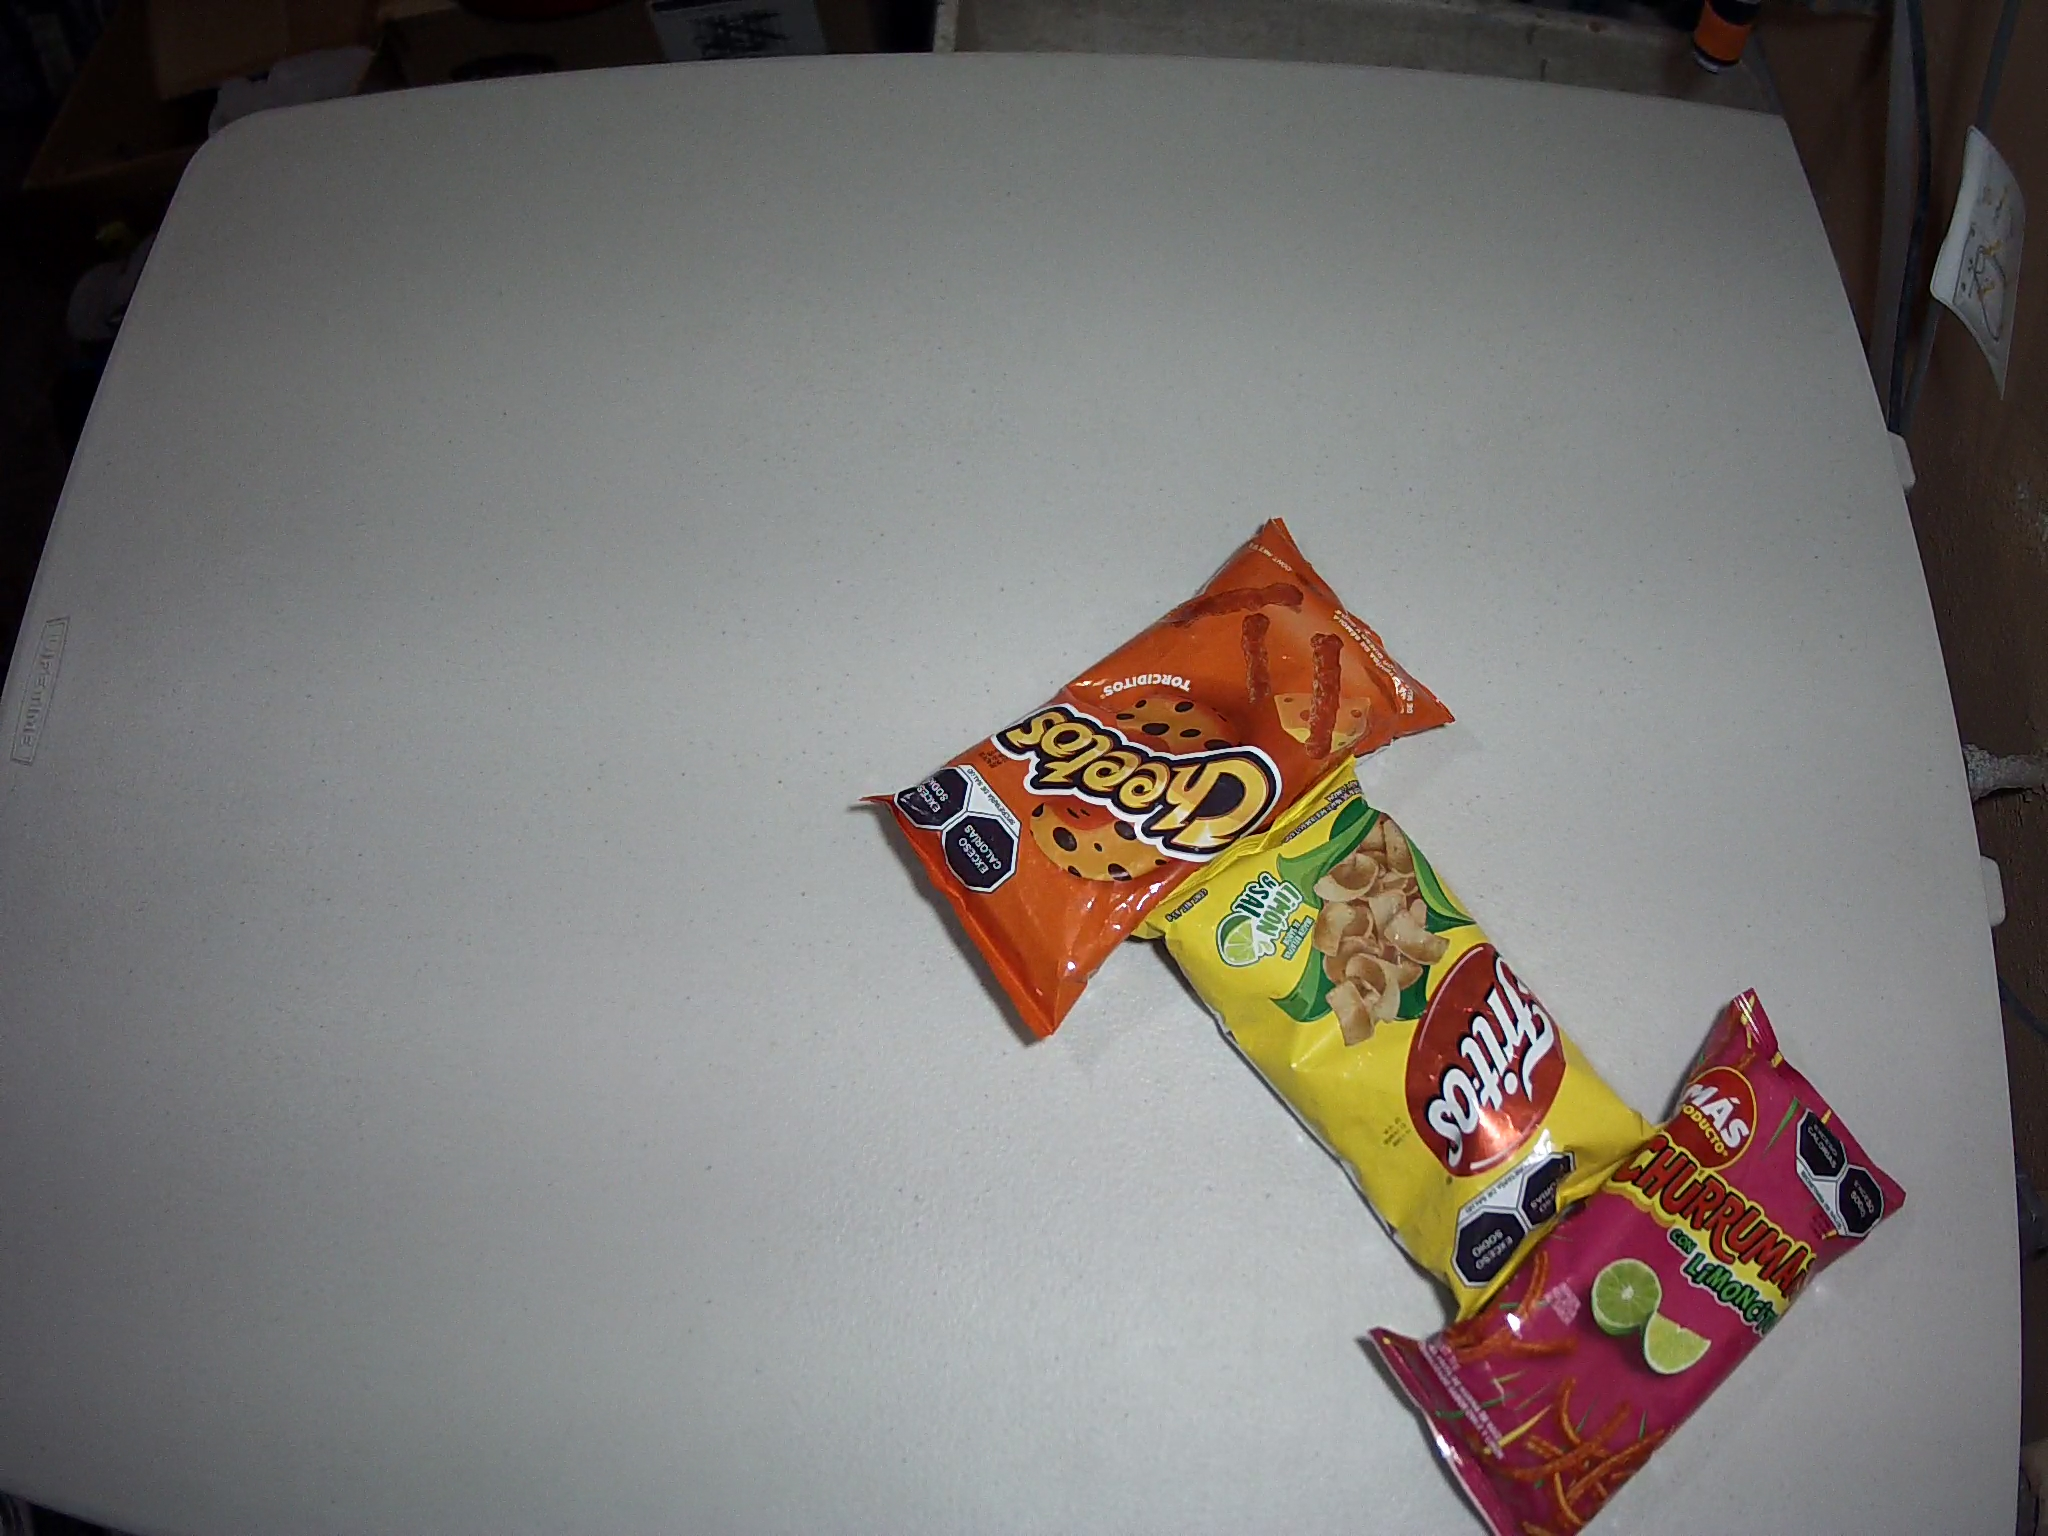CheetosTorciditos_55_F: (860, 518, 1459, 1041)
Churrumais_70_F: (1367, 991, 1906, 1536)
FritosSalLimon_65_F: (1124, 755, 1679, 1331)
